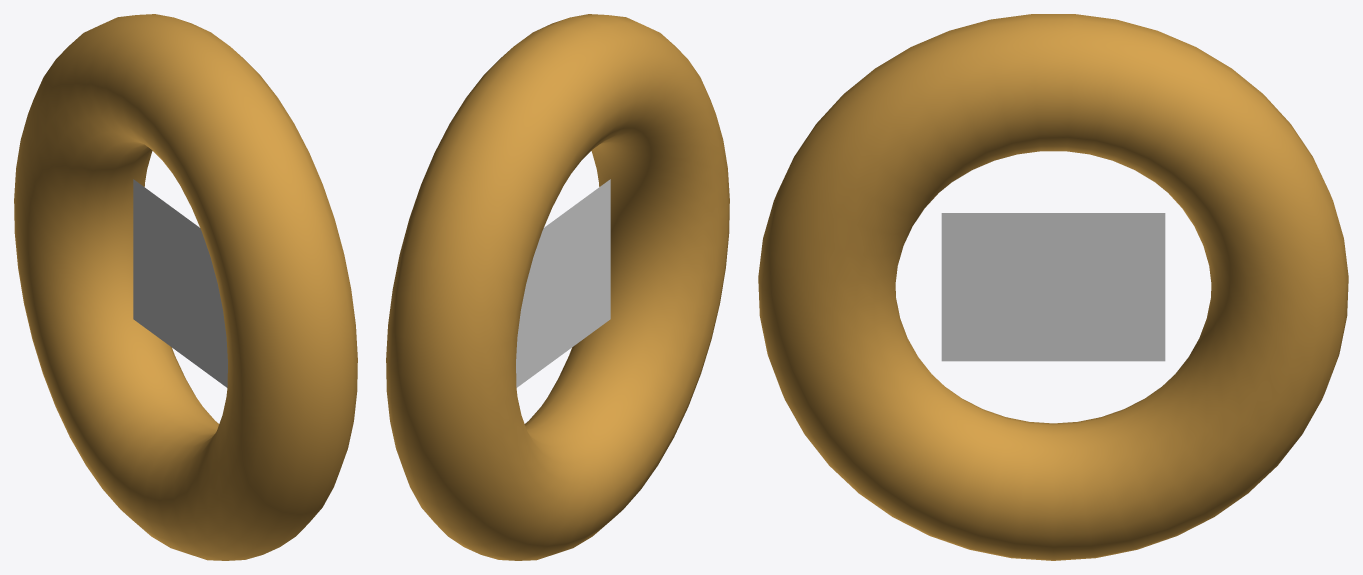
The model's file is GoalRing.fbx.
3 renders of one model, left to right at view 1: azimuth 30°, elevation 25°; view 2: azimuth 150°, elevation 25°; view 3: azimuth 270°, elevation 25°, orthographic. The views are drawn at different scales.
Visible parts, largest first — view 1: Torus.001, Plane; view 2: Torus.001, Plane; view 3: Torus.001, Plane.
Part boxes in pixels (left/top/right/bottom): Torus.001: left=14, top=14, right=357, bottom=560; Plane: left=133, top=179, right=227, bottom=387; Torus.001: left=386, top=14, right=729, bottom=560; Plane: left=516, top=179, right=610, bottom=387; Torus.001: left=758, top=14, right=1348, bottom=560; Plane: left=941, top=213, right=1165, bottom=361.
Size of the model in its own units: 168 by 720 by 721.
